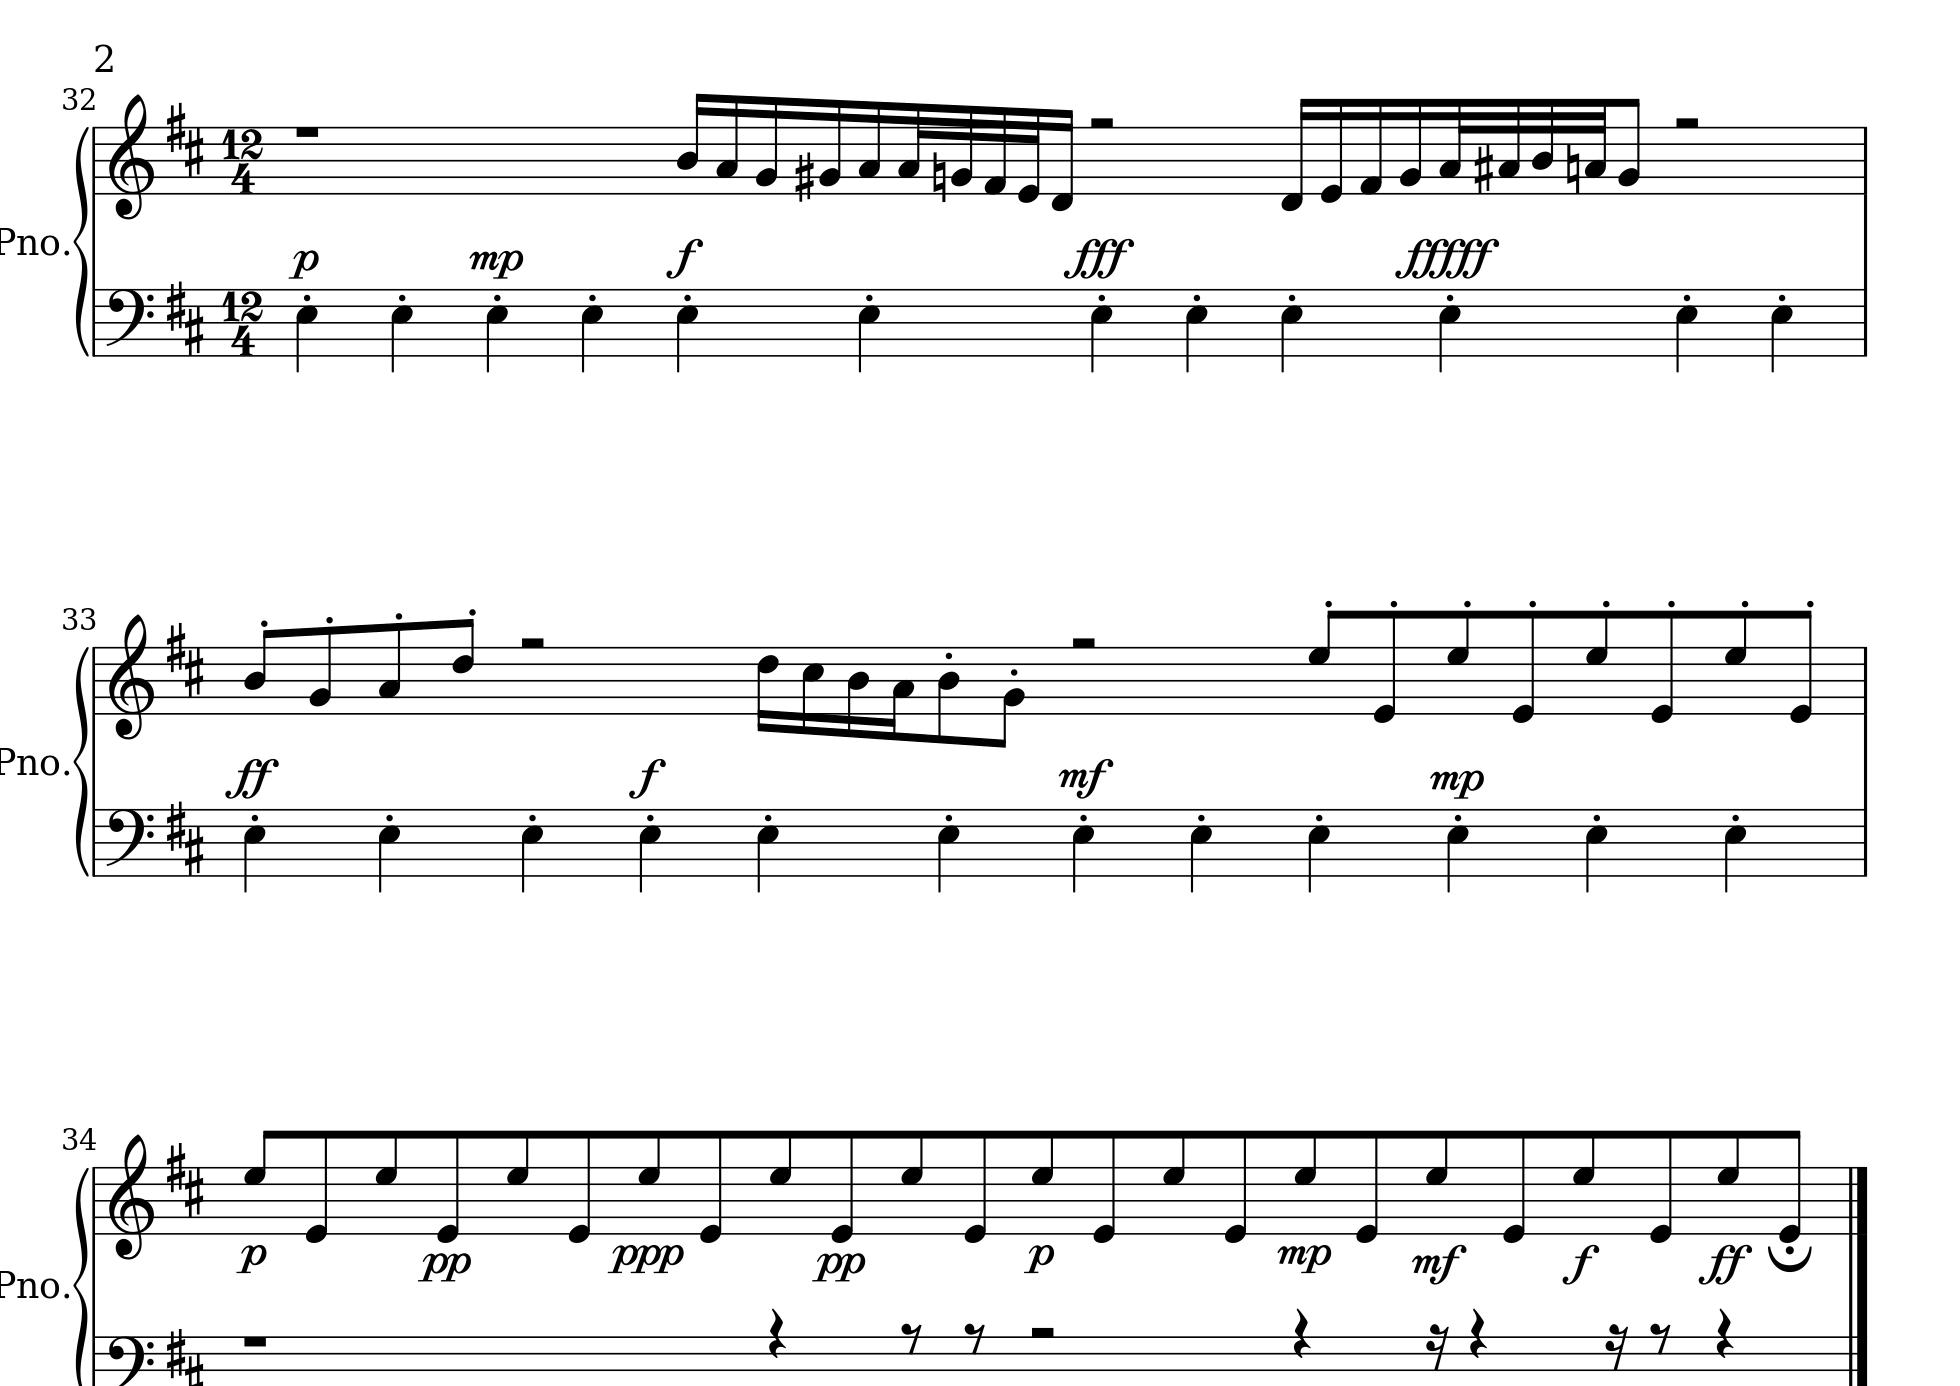1: (220, 126, 238, 159), (220, 288, 238, 321)
16_-1: (1278, 94, 1314, 214), (1050, 106, 1077, 213)
16_0: (1320, 96, 1345, 204)
16_1: (1359, 94, 1384, 196)
16_2: (754, 94, 780, 195), (817, 97, 843, 195), (1398, 96, 1423, 193)
16_3: (883, 645, 915, 742), (714, 91, 739, 196), (856, 97, 882, 196)
16_4: (675, 91, 709, 196), (844, 645, 871, 739)
16_5: (799, 643, 825, 736)
16_6: (756, 645, 778, 733)
2: (238, 126, 265, 159), (240, 288, 264, 321), (91, 40, 114, 72), (78, 85, 96, 111)
3: (79, 604, 97, 631), (61, 604, 78, 631), (61, 85, 78, 111), (61, 1125, 76, 1150)
32_0: (1015, 105, 1042, 205)
32_1: (984, 105, 1008, 196)
32_2: (949, 103, 975, 196)
32_3: (897, 100, 925, 196), (1438, 96, 1465, 196), (1497, 96, 1522, 195), (1584, 97, 1608, 196)
32_4: (1531, 96, 1557, 193)
4: (226, 322, 258, 355), (228, 160, 258, 193), (79, 1123, 97, 1153)
4_5: (292, 286, 319, 375), (1278, 286, 1305, 375), (579, 286, 604, 375), (673, 286, 699, 375), (1183, 286, 1209, 375), (1437, 286, 1462, 375), (1674, 286, 1699, 375), (241, 805, 267, 894), (519, 807, 544, 895), (1188, 807, 1213, 895), (1306, 807, 1332, 895), (1723, 805, 1749, 894), (388, 288, 414, 375), (754, 807, 780, 894), (1584, 807, 1609, 894), (484, 286, 508, 375), (856, 286, 880, 375), (1089, 286, 1113, 375), (1770, 286, 1794, 375), (376, 807, 400, 895), (637, 807, 661, 895), (1071, 807, 1095, 895), (1446, 807, 1470, 895), (936, 807, 960, 894)
8_0: (1371, 607, 1401, 727), (433, 1126, 463, 1246), (565, 1126, 595, 1246), (961, 1126, 991, 1246), (1500, 1126, 1530, 1246), (1647, 1126, 1677, 1246), (1090, 1128, 1120, 1246), (1648, 609, 1678, 726), (1510, 607, 1539, 727), (303, 1126, 331, 1246), (1222, 1128, 1251, 1248), (1354, 1126, 1383, 1246), (697, 1128, 726, 1246), (1776, 1126, 1804, 1245), (1786, 609, 1815, 726), (829, 1128, 856, 1246)
8_2: (994, 646, 1026, 750), (1617, 96, 1642, 196), (307, 625, 334, 715)
8_3: (376, 621, 403, 717)
8_4: (243, 628, 274, 715), (934, 645, 961, 745)
8_6: (450, 616, 475, 715)
8_7: (1308, 607, 1339, 715), (243, 1126, 274, 1234), (373, 1126, 400, 1236), (898, 1126, 925, 1236), (1161, 1126, 1188, 1236), (1584, 607, 1611, 715), (636, 1126, 663, 1234), (1293, 1126, 1320, 1234), (1716, 1128, 1743, 1236), (505, 1126, 531, 1236), (768, 1126, 793, 1236), (1723, 609, 1749, 717), (1572, 1126, 1597, 1234), (1446, 609, 1471, 715), (1030, 1128, 1056, 1234), (1425, 1128, 1450, 1234)
Brace: (72, 646, 91, 874), (72, 1165, 90, 1386), (73, 126, 90, 354)
D_S: (165, 619, 205, 697), (165, 99, 204, 178), (165, 798, 205, 874), (165, 1140, 205, 1216), (165, 280, 205, 355), (165, 1324, 205, 1386)
Fclef: (103, 805, 154, 879), (103, 286, 154, 358)
Fermata_above: (1767, 1243, 1815, 1272)
Final_barline: (1843, 1165, 1872, 1233), (1842, 1335, 1867, 1384)
Gclef: (106, 1132, 156, 1261), (106, 91, 154, 220), (106, 612, 154, 739)
Natural: (931, 148, 948, 204), (1566, 142, 1581, 196)
Pno: (1, 1266, 60, 1303), (1, 744, 58, 780), (1, 223, 60, 258)
Rests1: (291, 120, 324, 141), (238, 1330, 271, 1350)
Rests16: (1425, 1321, 1450, 1371), (1605, 1321, 1629, 1372)
Rests2: (1086, 112, 1119, 133), (1671, 112, 1704, 133), (1068, 631, 1101, 652), (1026, 1321, 1059, 1342), (517, 631, 549, 652)
Rests4: (766, 1305, 787, 1360), (1291, 1305, 1312, 1360), (1467, 1305, 1488, 1360), (1714, 1306, 1735, 1360)
Rests8: (1648, 1320, 1674, 1354), (898, 1320, 922, 1354), (963, 1320, 987, 1354)
Sharp: (1473, 142, 1495, 195), (793, 151, 814, 202)
Single_barline: (1857, 126, 1873, 193), (1857, 646, 1873, 714), (1857, 808, 1873, 874), (1857, 288, 1872, 355), (88, 288, 102, 355), (88, 646, 102, 714), (88, 127, 102, 193), (88, 808, 102, 874), (88, 1167, 102, 1233), (88, 1336, 100, 1384)
TimeSig: (220, 124, 265, 193), (222, 288, 264, 357)
f: (664, 237, 705, 277), (628, 756, 667, 796), (1561, 1243, 1600, 1284)
ff: (225, 754, 280, 799), (1698, 1243, 1752, 1285)
fff: (1065, 235, 1137, 280)
fffff: (1396, 234, 1500, 279)
mf: (1410, 1240, 1467, 1285), (1059, 754, 1114, 798)
mp: (1275, 1240, 1335, 1276), (1429, 766, 1485, 798), (469, 247, 523, 279)
p: (235, 1243, 268, 1276), (1023, 1243, 1056, 1276), (288, 247, 319, 279)
pp: (415, 1246, 474, 1285), (811, 1249, 867, 1285)
ppp: (604, 1240, 687, 1276)
